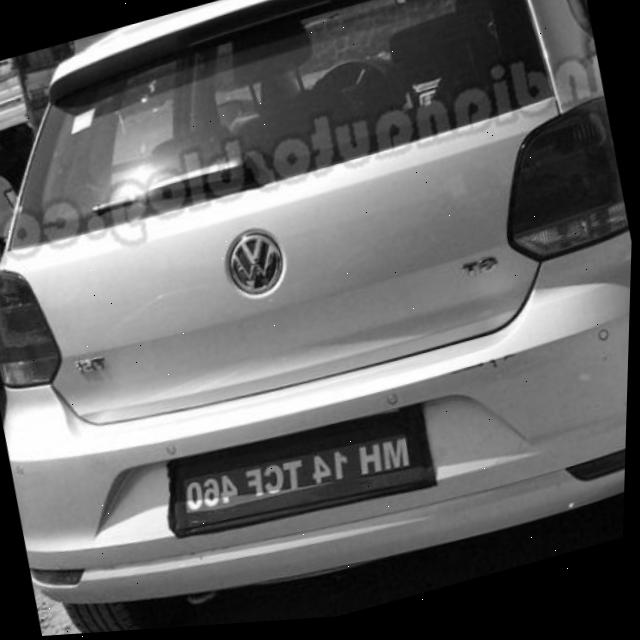car: (0, 0, 640, 640), (177, 421, 416, 536)
